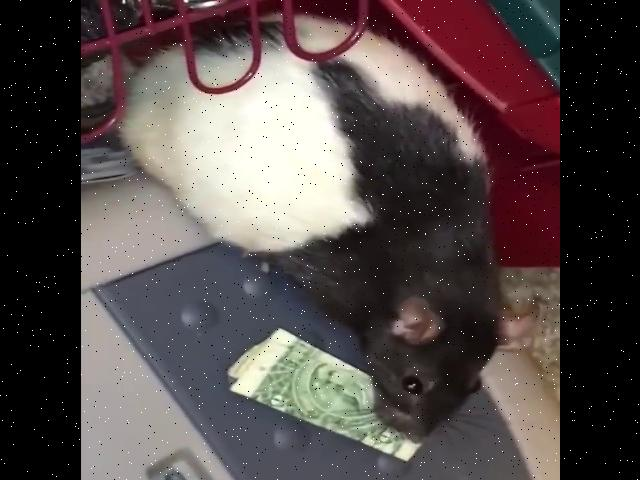Tikus: (115, 8, 541, 442)
